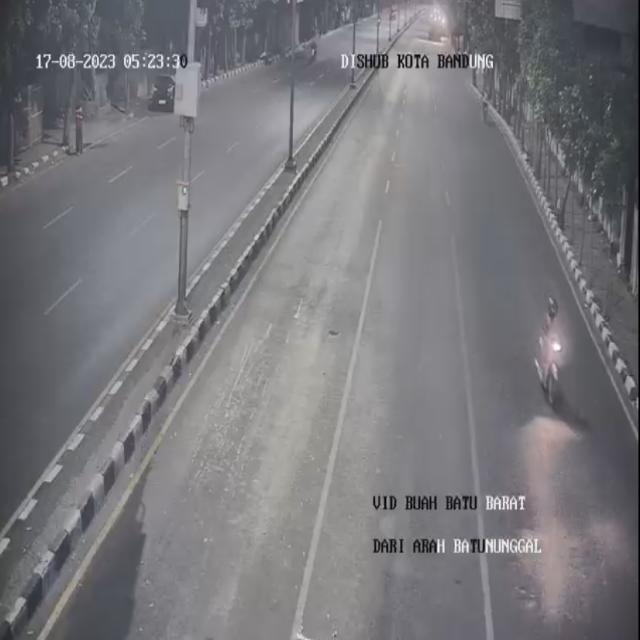motorcycle: (531, 285, 576, 412)
